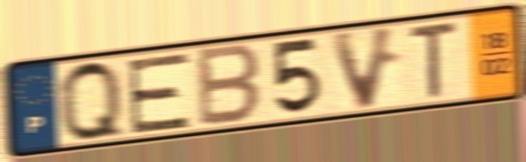5: (271, 34, 325, 118)
B: (196, 42, 264, 130)
E: (124, 49, 193, 137)
Q: (54, 57, 130, 144)
T: (406, 19, 462, 103)
V: (326, 23, 402, 114)
